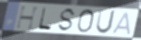A: (111, 11, 133, 36)
H: (15, 5, 41, 31)
L: (37, 7, 53, 32)
O: (76, 9, 96, 34)
S: (56, 7, 77, 33)
U: (94, 8, 118, 36)
